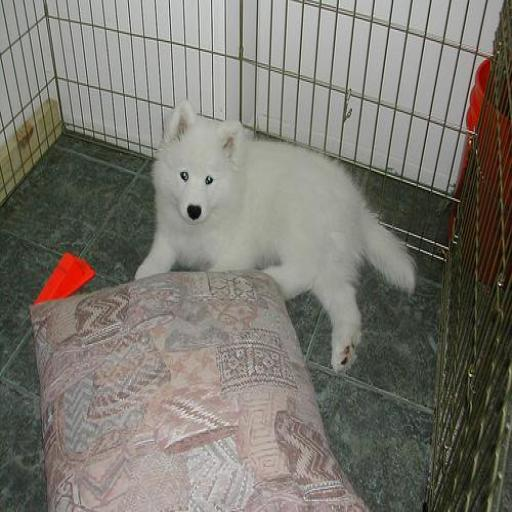dog_face: (154, 100, 242, 222)
